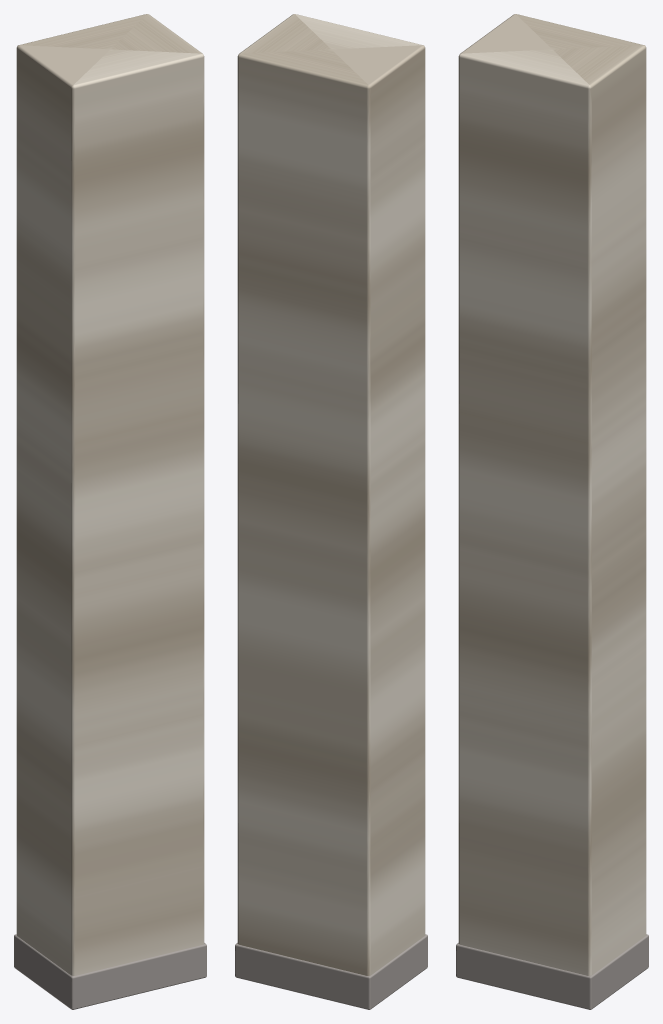
Rendered from obj_arch_column_400.glb.
3 views of the same model, side by side, from view 1: azimuth 30°, elevation 25°; view 2: azimuth 150°, elevation 25°; view 3: azimuth 330°, elevation 25° (orthographic).
Parts seen in each view (by area): view 1: obj_arch_column_400; view 2: obj_arch_column_400; view 3: obj_arch_column_400.
Boxes of the visible parts, left/top/right/bottom form: obj_arch_column_400: left=14, top=14, right=206, bottom=1009; obj_arch_column_400: left=235, top=14, right=427, bottom=1009; obj_arch_column_400: left=456, top=14, right=648, bottom=1009.
Bounding box in the file's own units: 0.4 × 2.6 × 0.3.
Materials: 2 (1 with a texture image).
